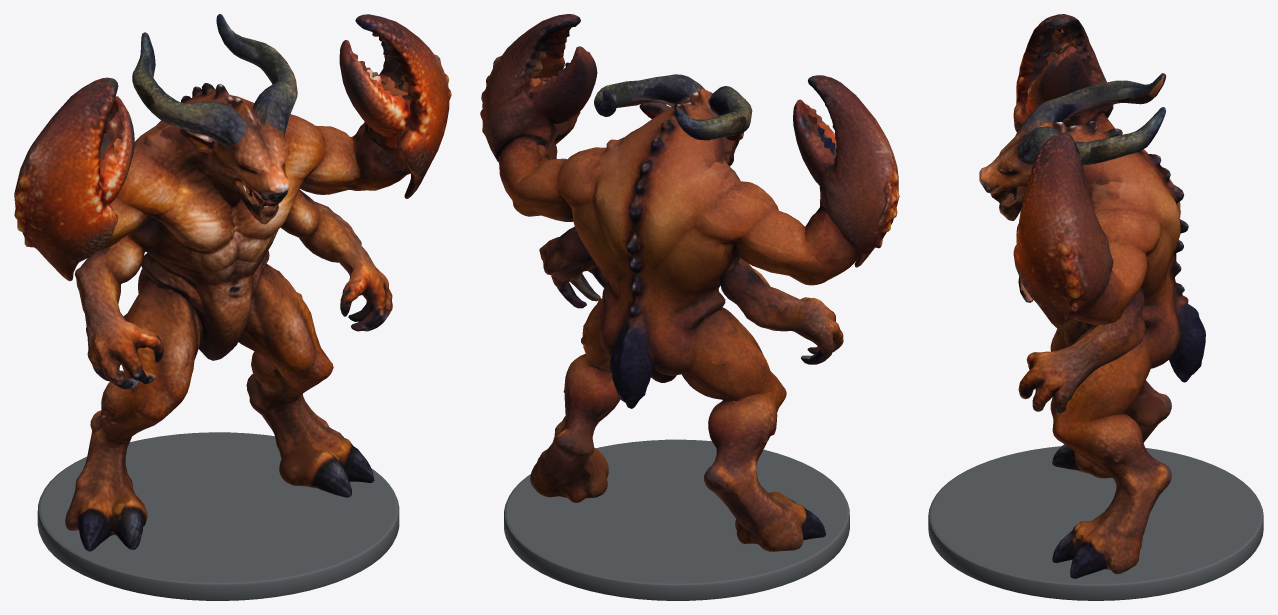
The model's file is glabrezu.glb.
The picture shows the model from 3 angles, left to right: view 1: azimuth 30°, elevation 25°; view 2: azimuth 150°, elevation 25°; view 3: azimuth 270°, elevation 25°; orthographic projection. The views are drawn at different scales.
Visible parts, largest first — view 1: glabrezu_body, glabrezu_round_base; view 2: glabrezu_body, glabrezu_round_base; view 3: glabrezu_body, glabrezu_round_base.
Boxes of the visible parts, box(x1,y1,x2,y2) form: glabrezu_body: box(14, 14, 451, 551); glabrezu_round_base: box(37, 432, 399, 600); glabrezu_body: box(480, 14, 899, 551); glabrezu_round_base: box(504, 439, 849, 600); glabrezu_body: box(979, 14, 1205, 578); glabrezu_round_base: box(928, 446, 1263, 600).
Size of the model in its own units: 1.39 by 1.5 by 1.
Materials: 2 (1 with a texture image).
